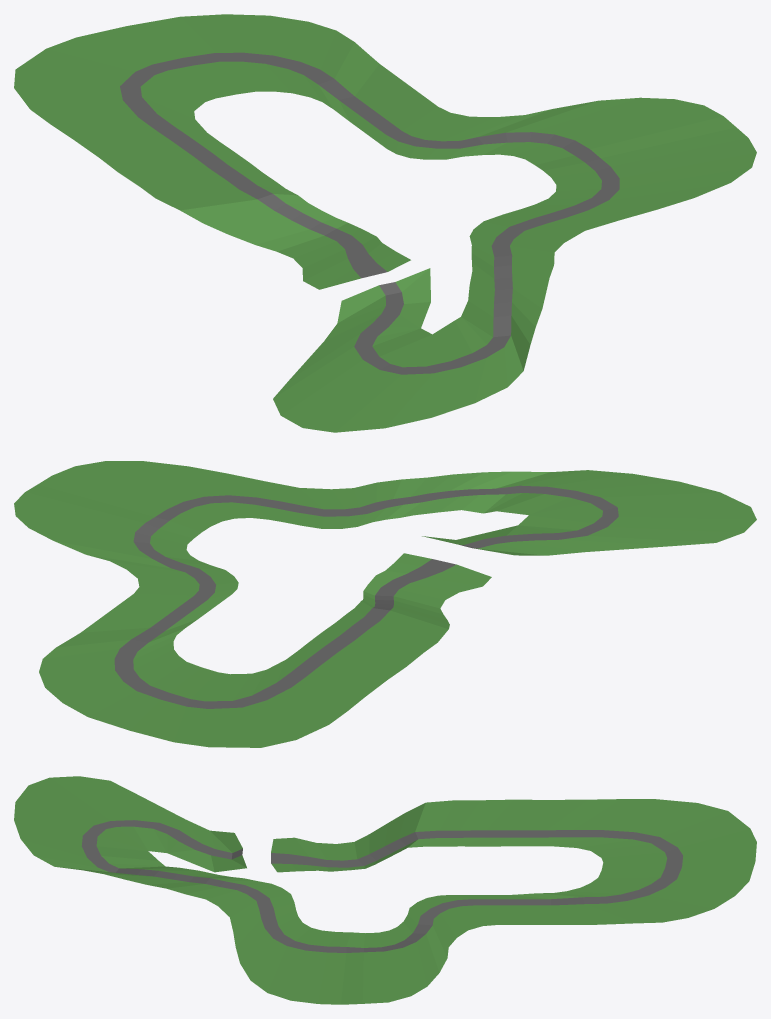
The model's file is test_track.fbx.
3 views of the same model, one above another, from view 1: azimuth 30°, elevation 25°; view 2: azimuth 150°, elevation 25°; view 3: azimuth 270°, elevation 25° (orthographic). The views are drawn at different scales.
Parts seen in each view (by area): view 1: Plane; view 2: Plane; view 3: Plane.
Boxes of the visible parts, box(x1,y1,x2,y2) form: Plane: box(14, 14, 756, 432); Plane: box(14, 461, 756, 747); Plane: box(14, 776, 756, 1004).
Bounding box in the file's own units: 7796 × 317 × 9976.
